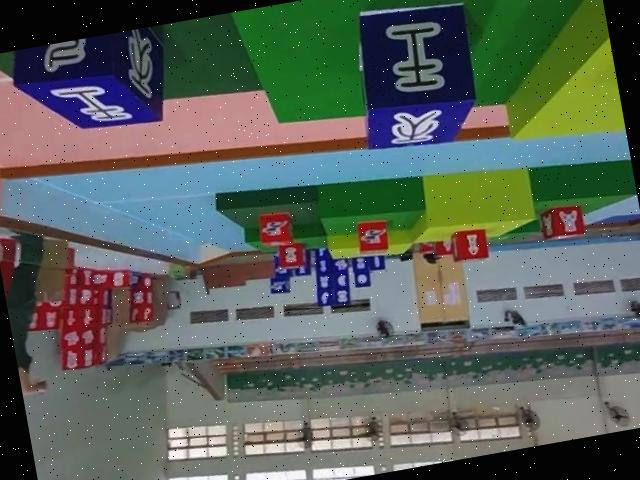R2 Fake Blue: (344, 0, 485, 155), (7, 25, 174, 143)
